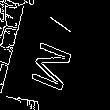M_E: (33, 37, 83, 96)
